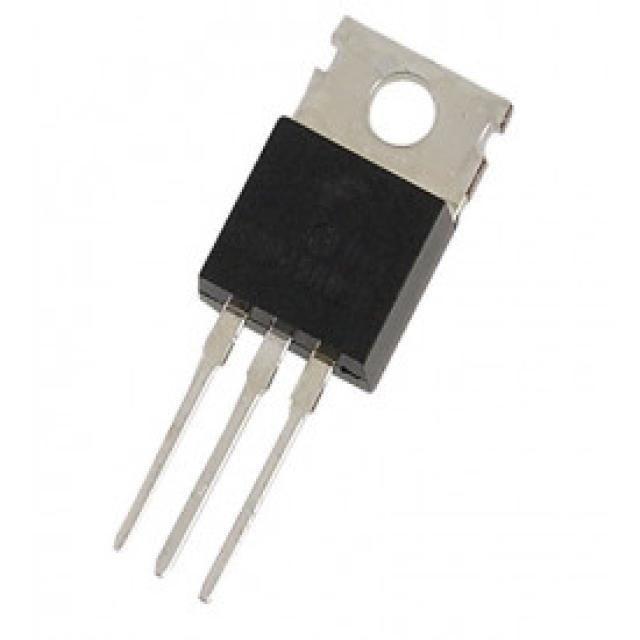Transistor: (113, 22, 506, 605)
